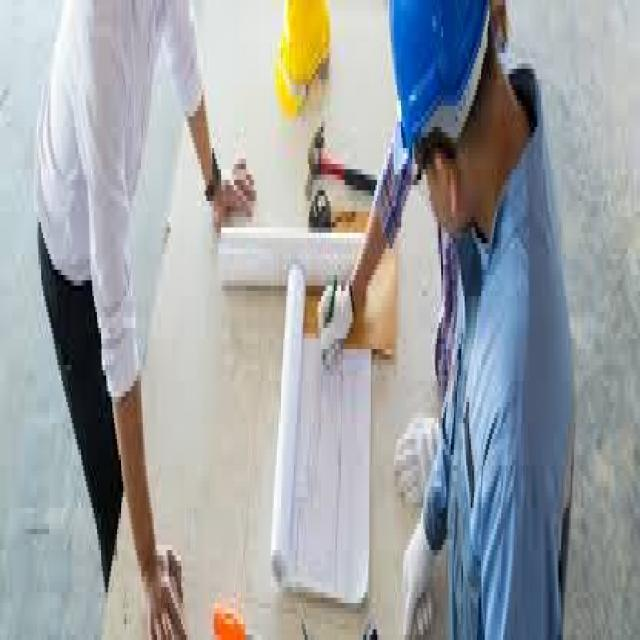Reflective-Jacket: (413, 84, 578, 640)
Safety-Helmet: (380, 0, 497, 180)
